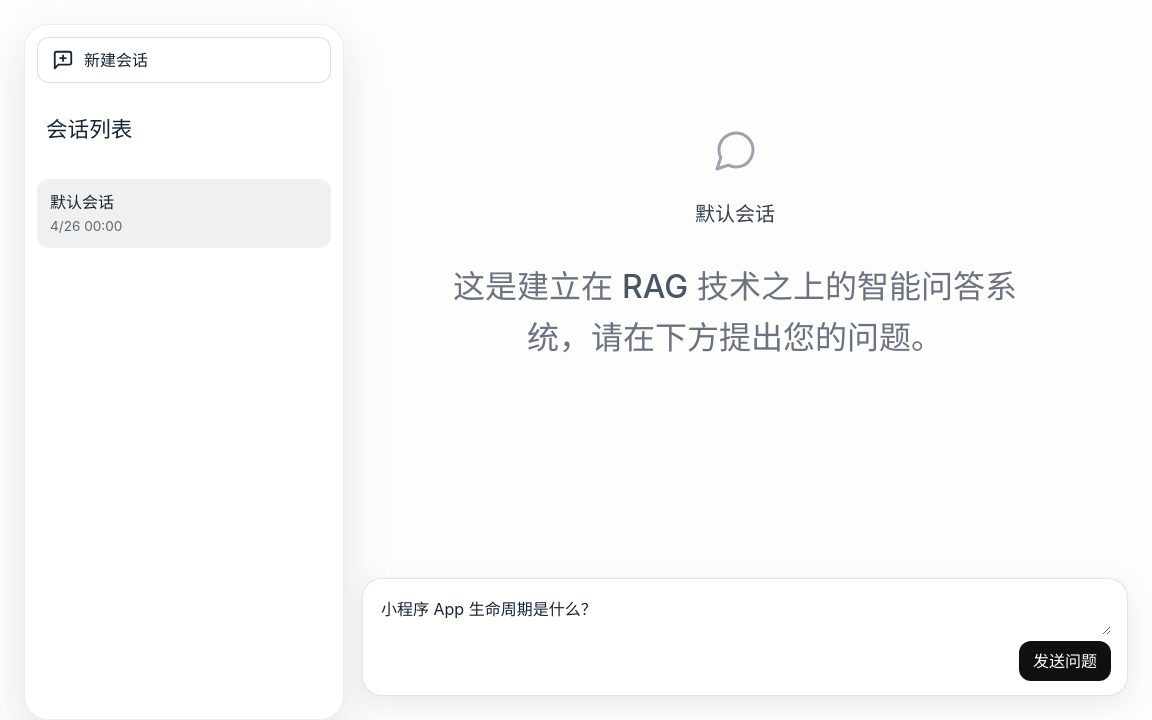
Test case: App › prevents submitting an empty question
This screenshot has width=1152, height=720.
Expected: the button with aria-label "打开会话 默认会话" is shown, [50,190,286,237]
Clear the text box named "问题" at (745, 614), box [379,593,1111,635]
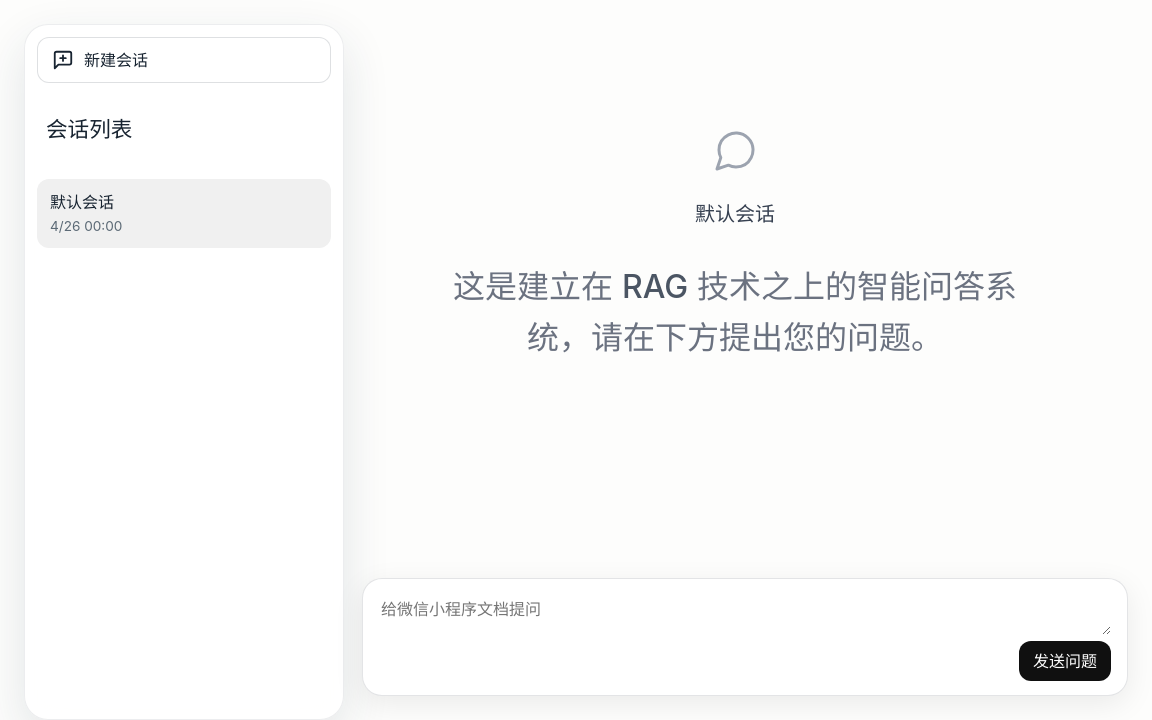
Click the button "发送问题" at (1065, 661), box [1019,641,1111,681]
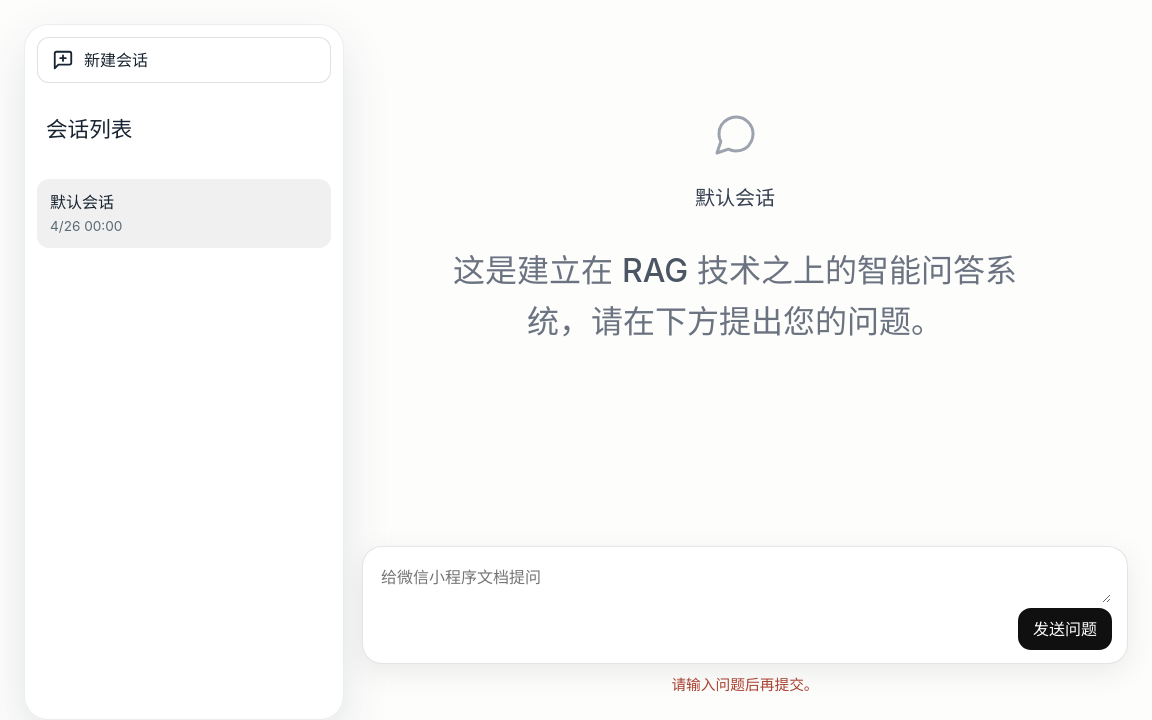
Result: the text "请输入问题后再提交。" is shown at [671,676,819,694]
